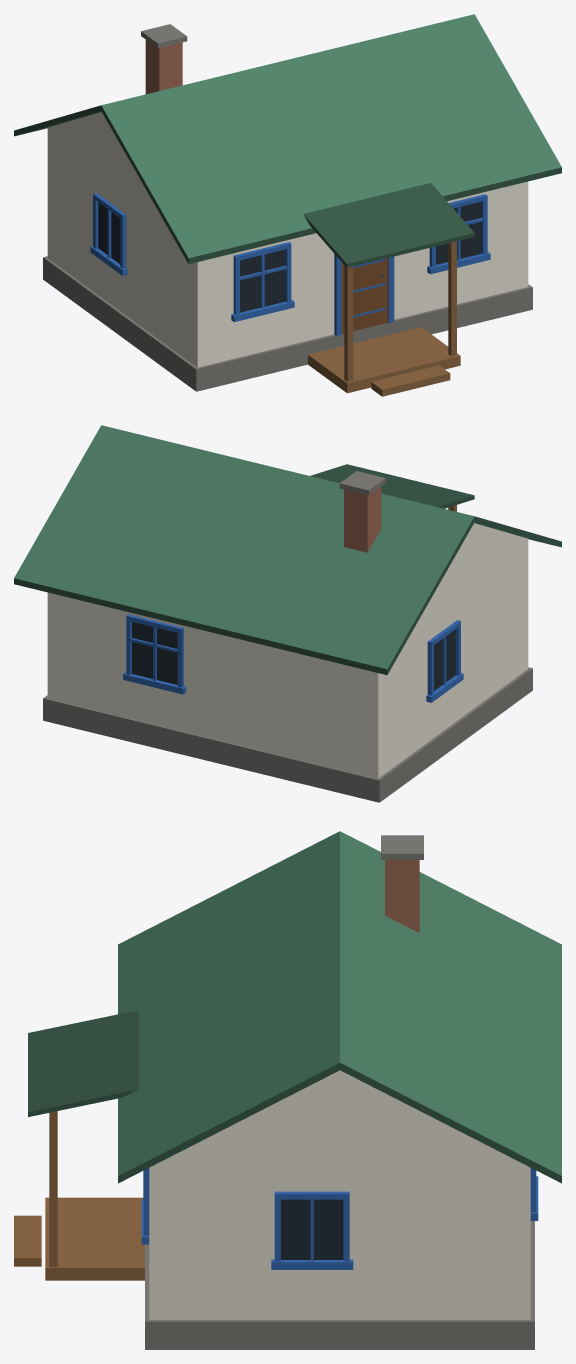
Rendered from House_White_Green.obj.
3 views of the same model, one above another, from view 1: azimuth 30°, elevation 25°; view 2: azimuth 150°, elevation 25°; view 3: azimuth 270°, elevation 25° (orthographic). The views are drawn at different scales.
Visible parts, largest first — view 1: House_White_Green; view 2: House_White_Green; view 3: House_White_Green.
Part boxes in pixels (x1,y1,x2,y2): House_White_Green: [14, 14, 561, 396]; House_White_Green: [14, 425, 561, 802]; House_White_Green: [14, 831, 561, 1349].
Bounding box in the file's own units: 7.9 × 5.4 × 7.9.
